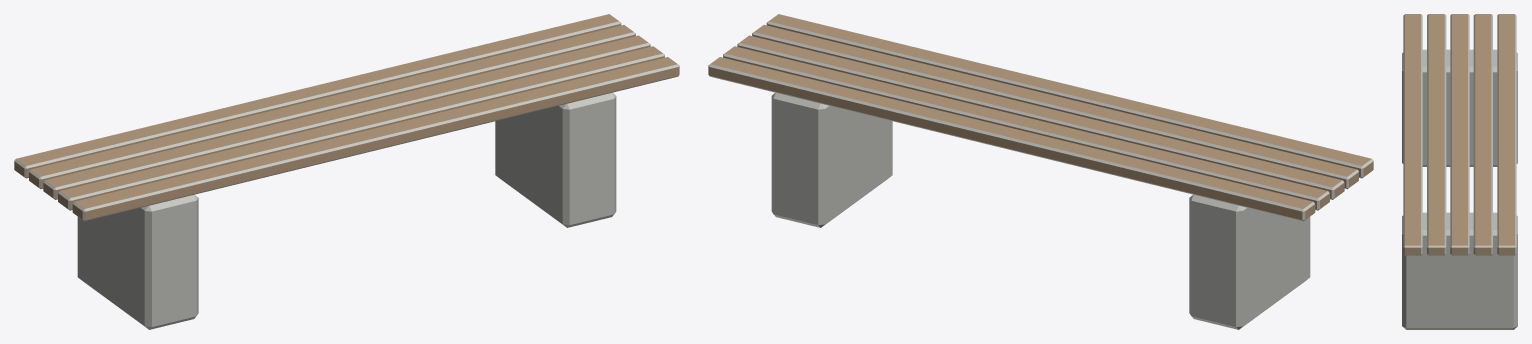
File: bench_concrete_slats.glb
The picture shows the model from 3 angles, left to right: view 1: azimuth 30°, elevation 25°; view 2: azimuth 150°, elevation 25°; view 3: azimuth 270°, elevation 25°; orthographic projection. The views are drawn at different scales.
Parts seen in each view (by area): view 1: bench_concrete_slats; view 2: bench_concrete_slats; view 3: bench_concrete_slats.
Boxes of the visible parts, x1,y1,x2,y2 form: bench_concrete_slats: (14,14,679,329); bench_concrete_slats: (708,14,1373,329); bench_concrete_slats: (1402,14,1517,329).
Size of the model in its own units: 2 by 0.44 by 0.42.
